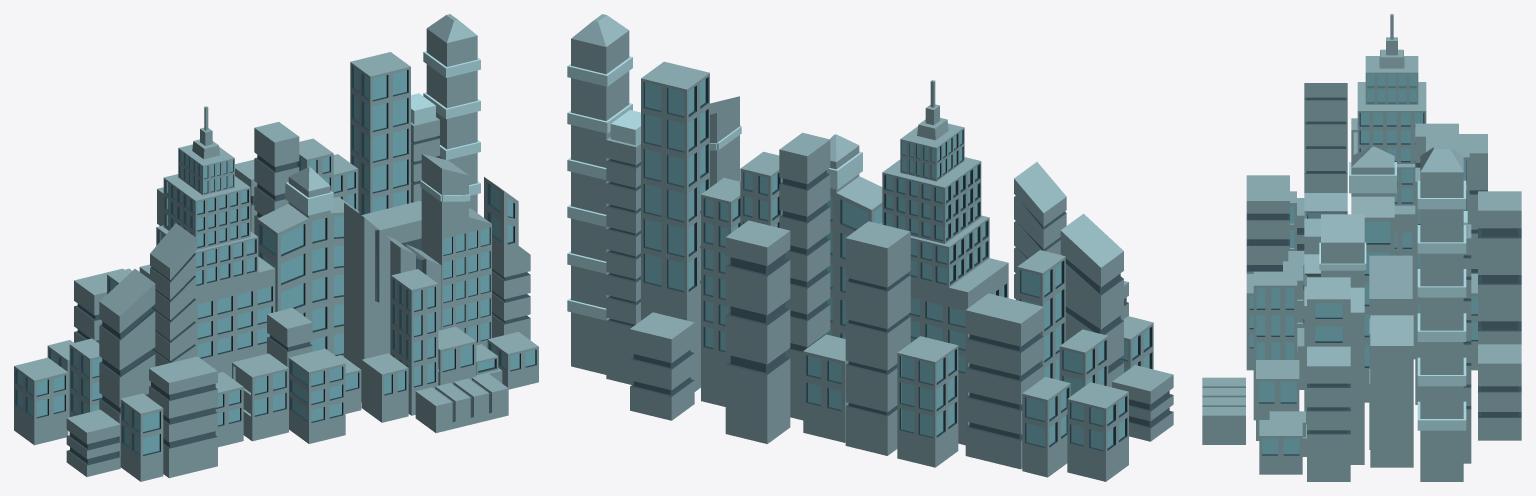
Rendered from City_LowPoly.fbx.
3 views of the same model, side by side, from view 1: azimuth 30°, elevation 25°; view 2: azimuth 150°, elevation 25°; view 3: azimuth 270°, elevation 25° (orthographic). The views are drawn at different scales.
Parts seen in each view (by area): view 1: City; view 2: City; view 3: City.
Part boxes in pixels (x1,y1,x2,y2): City: (14, 14, 538, 481); City: (567, 14, 1173, 481); City: (1202, 14, 1521, 481).
Size of the model in its own units: 1479 by 933 by 829.
1 material, 1 textured.
